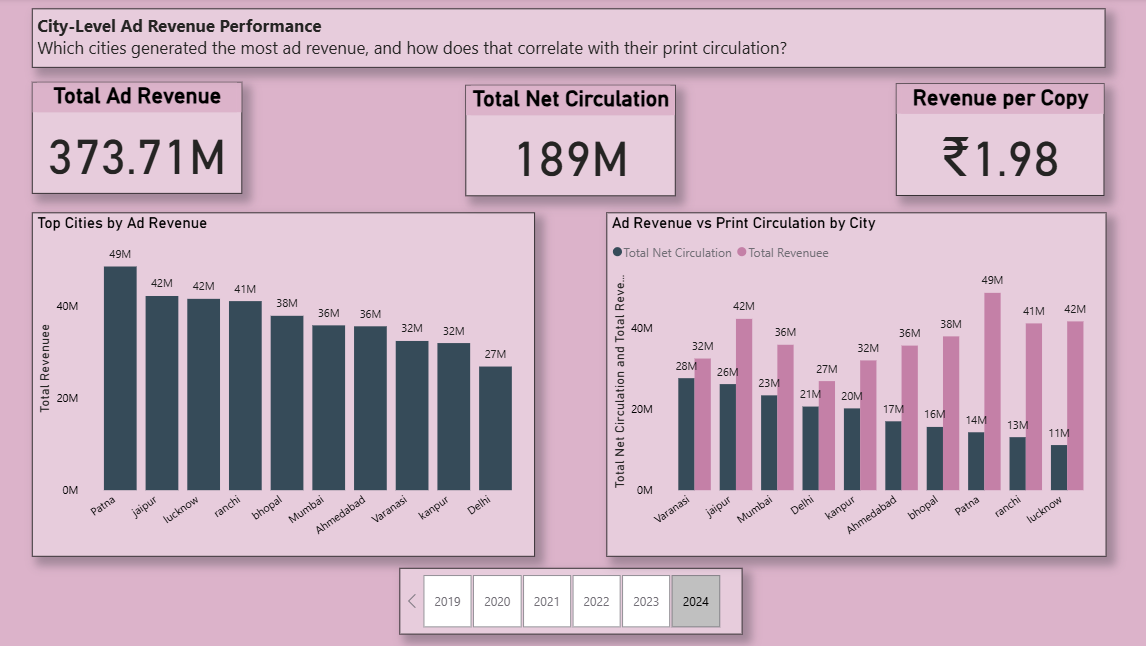

The dashboard page shown, as its layout file describes it:
{"tool":"powerbi","page":{"name":"City-Level Ad Revenue Performance","canvas":[1280,720],"ordinal":4},"visuals":[{"type":"columnChart","title":"Top Cities by Ad Revenue","fields":{"Y":["Key Measures.Total Revenuee"],"Category":["dim_city.city"]},"box":[50,236.7,555,380],"z":0},{"type":"card","title":"Total Ad Revenue","fields":{"Values":["Key Measures.Total Revenuee"]},"box":[50,93.3,231.7,123.3],"z":1000},{"type":"card","title":"Total Net Circulation","fields":{"Values":["fact_print_sales.Total Net Circulation"]},"box":[528.4,96.1,231.9,122.6],"z":2000},{"type":"card","title":"Revenue per Copy","fields":{"Values":["Key Measures.Revenue per Copyy"]},"box":[1003.8,94.4,230.3,124.2],"z":3000},{"type":"slicer","fields":{"Values":["fact_ad_revenue (2).Yearr"]},"box":[455,630,378.3,73.3],"z":4000},{"type":"textbox","box":[50,11.7,1185,65],"z":5000},{"type":"clusteredColumnChart","title":"Ad Revenue vs Print Circulation by City","fields":{"Category":["dim_city.city"],"Y":["fact_print_sales.Total Net Circulation","Key Measures.Total Revenuee"]},"box":[683.3,236.7,551.7,380],"z":6000}]}

Visuals, with their boxes in screenshot pixels (x1, y1, x2, y2), scaled from the page's 1280x720 canvas onto the 1146x646 screenshot:
"Top Cities by Ad Revenue" columnChart: x1=45 y1=212 x2=542 y2=553
"Total Ad Revenue" card: x1=45 y1=84 x2=252 y2=194
"Total Net Circulation" card: x1=473 y1=86 x2=681 y2=196
"Revenue per Copy" card: x1=899 y1=85 x2=1105 y2=196
slicer - fact_ad_revenue (2).Yearr: x1=407 y1=565 x2=746 y2=631
textbox: x1=45 y1=10 x2=1106 y2=69
"Ad Revenue vs Print Circulation by City" clusteredColumnChart: x1=612 y1=212 x2=1106 y2=553
